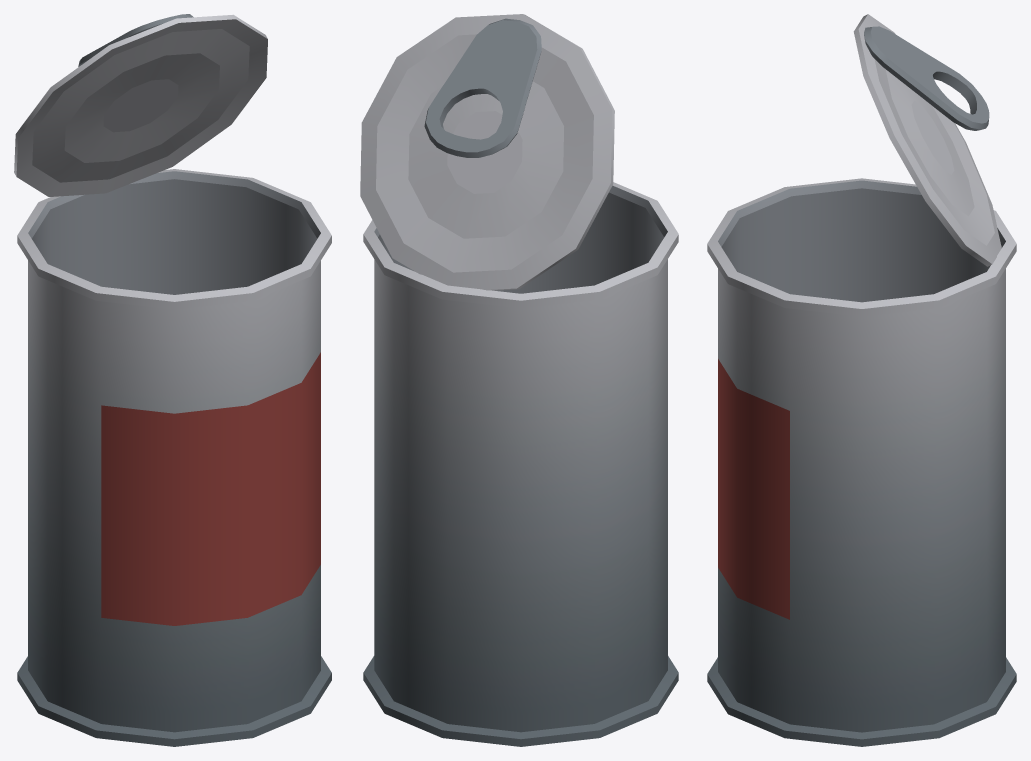
The model's file is Tin_02_open.fbx.
3 renders of one model, left to right at view 1: azimuth 30°, elevation 25°; view 2: azimuth 150°, elevation 25°; view 3: azimuth 270°, elevation 25°, orthographic.
Parts seen in each view (by area): view 1: Tin_02_open; view 2: Tin_02_open; view 3: Tin_02_open.
Part boxes in pixels (<box>): Tin_02_open: <box>14,14,331,746</box>; Tin_02_open: <box>360,14,678,746</box>; Tin_02_open: <box>707,14,1016,746</box>.
Size of the model in its own units: 85.46 by 85.46 by 200.
